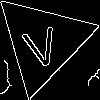V: (18, 16, 63, 70)
